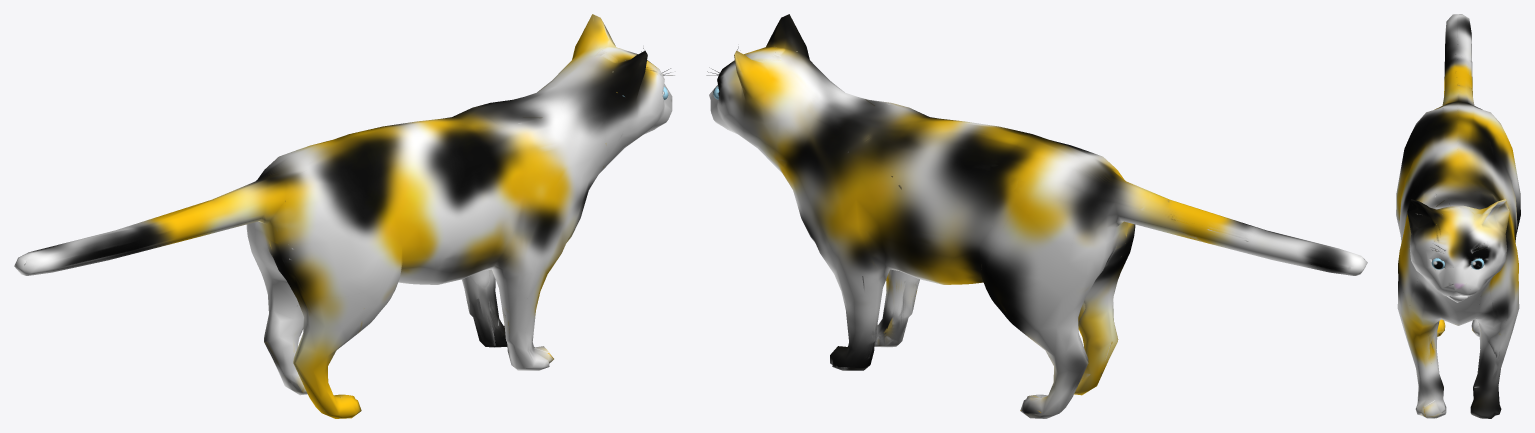
Rendered from calicopolycat.glb.
The picture shows the model from 3 angles, left to right: view 1: azimuth 30°, elevation 25°; view 2: azimuth 150°, elevation 25°; view 3: azimuth 270°, elevation 25°; orthographic projection. The views are drawn at different scales.
Visible parts, largest first — view 1: cat; view 2: cat; view 3: cat.
Boxes of the visible parts, x1,y1,x2,y2 form: cat: [14, 14, 674, 418]; cat: [706, 14, 1367, 418]; cat: [1396, 14, 1520, 418].
Bounding box in the file's own units: 23.49 × 10.21 × 4.45.
1 material, 1 textured.
